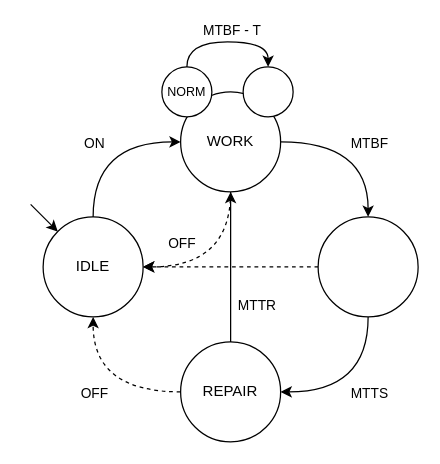
Some shapes in this 440 by 464 pixel diagram are drawn without their labels. The centre of each missing label's shape, as x and y in pixels:
ANOM: point (267, 91)
BREAK: point (367, 266)
